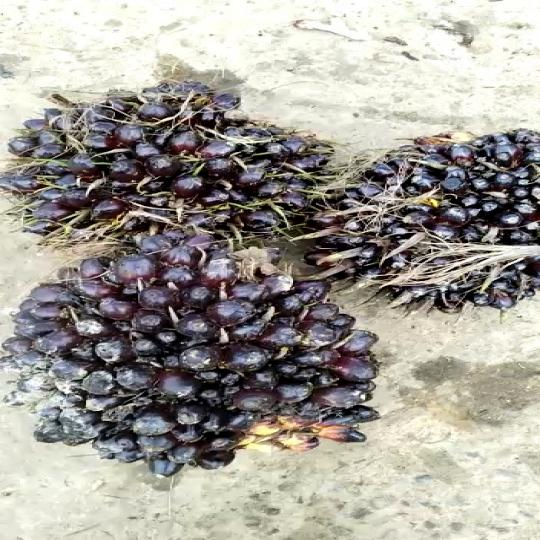mentah: (0, 236, 408, 488), (0, 66, 326, 259), (297, 115, 540, 320)
